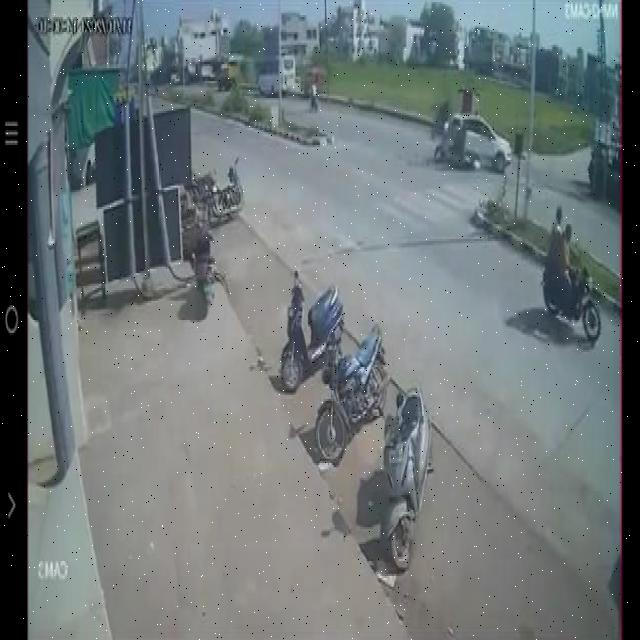accident: (428, 100, 512, 186)
